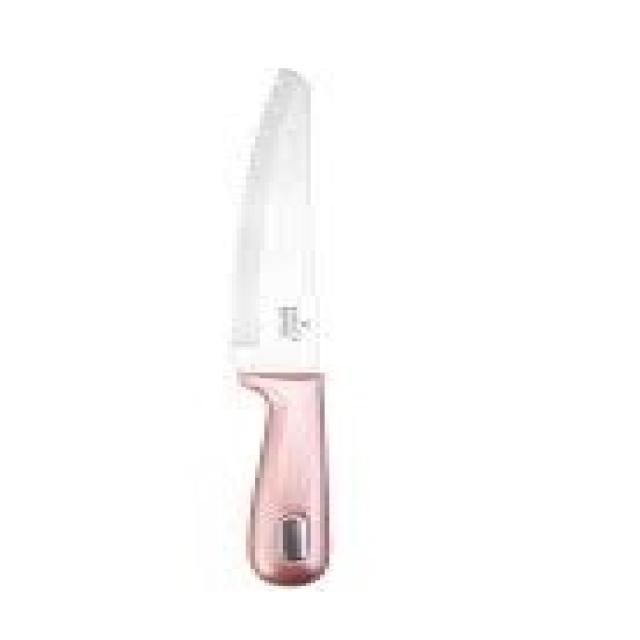knife: (214, 63, 354, 598)
